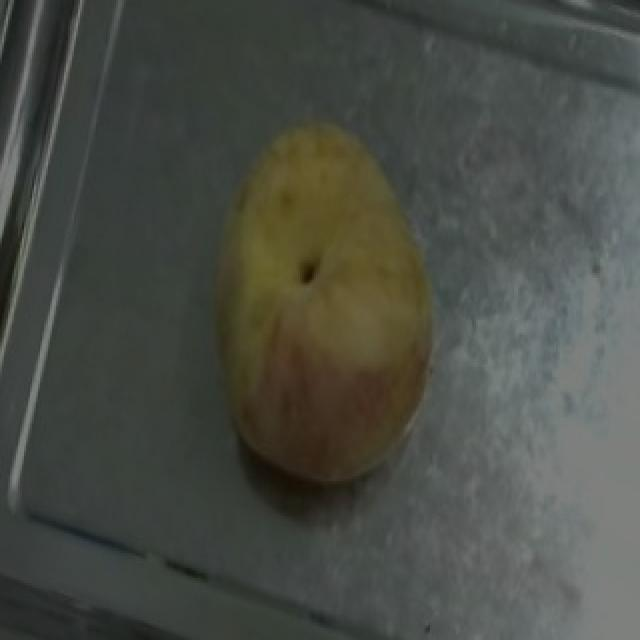Fruit: (168, 86, 478, 494)
